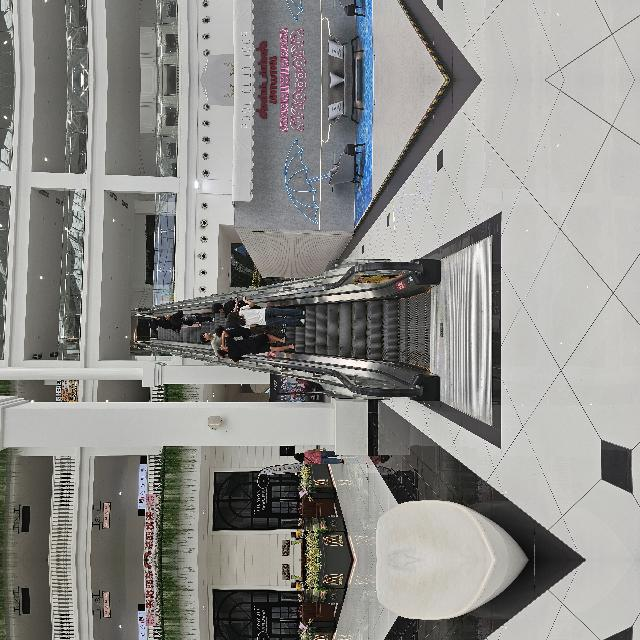obstacle: (0, 448, 64, 607), (0, 512, 64, 640), (367, 403, 419, 445), (438, 403, 480, 437)
person: (197, 297, 230, 375), (232, 307, 264, 385), (240, 291, 262, 361), (222, 295, 240, 367), (232, 243, 254, 295), (95, 374, 111, 424), (228, 227, 242, 281)
stair: (158, 390, 308, 518), (158, 602, 307, 640)
